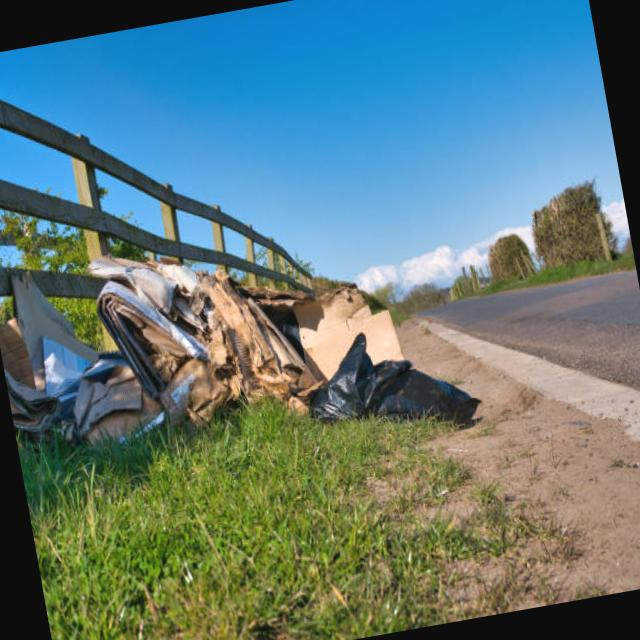garbage: (0, 255, 402, 448)
